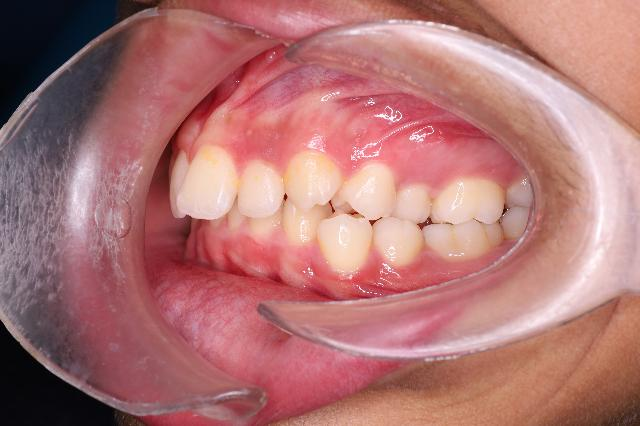canine class II 1/2: (281, 148, 373, 278)
molar class I: (423, 172, 507, 266)
